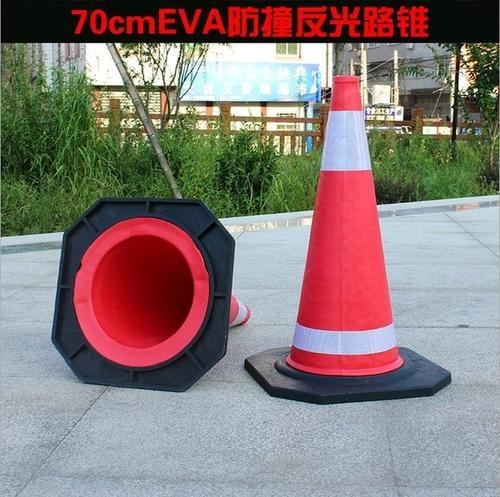cone_barrel: (269, 70, 417, 384)
